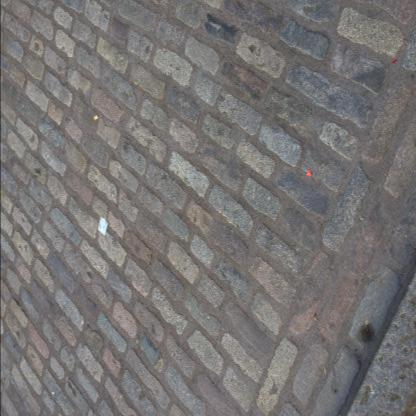Plastic bag - wrapper: (98, 217, 108, 236)
